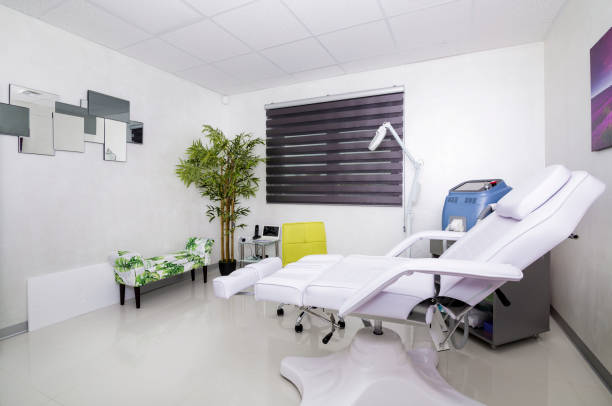bedside_monitor: (450, 176, 504, 196)
chair: (283, 221, 328, 260)
exam_table: (214, 159, 603, 403)
sofa: (113, 237, 211, 307)
table: (240, 239, 280, 273)
